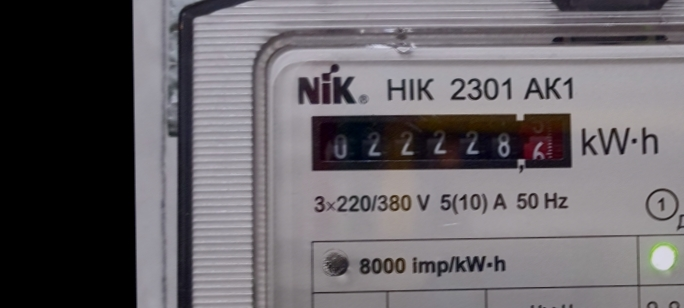0: (332, 129, 348, 158)
2: (365, 126, 384, 156), (464, 126, 482, 155), (431, 125, 449, 153), (399, 126, 416, 155)
5: (531, 113, 546, 133)
6: (531, 136, 547, 157)
8: (496, 128, 512, 156)
screen: (303, 99, 582, 178)
